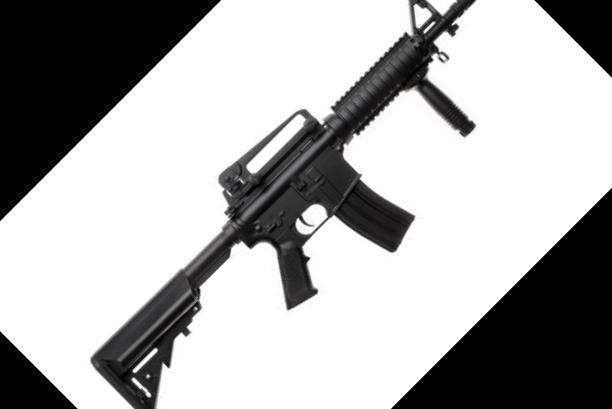larga: (89, 0, 476, 409)
